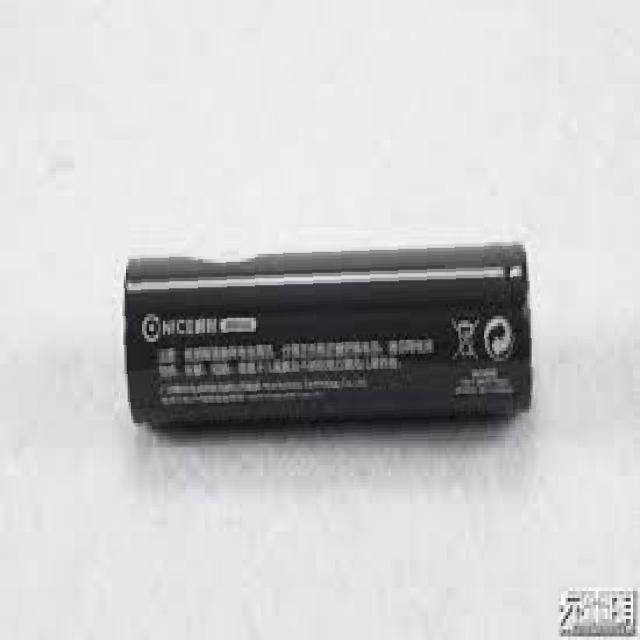Battery: (95, 234, 557, 455)
